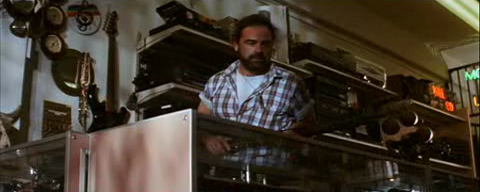face: (241, 30, 272, 73)
ms: (1, 1, 480, 192)
person: (196, 14, 317, 192)
